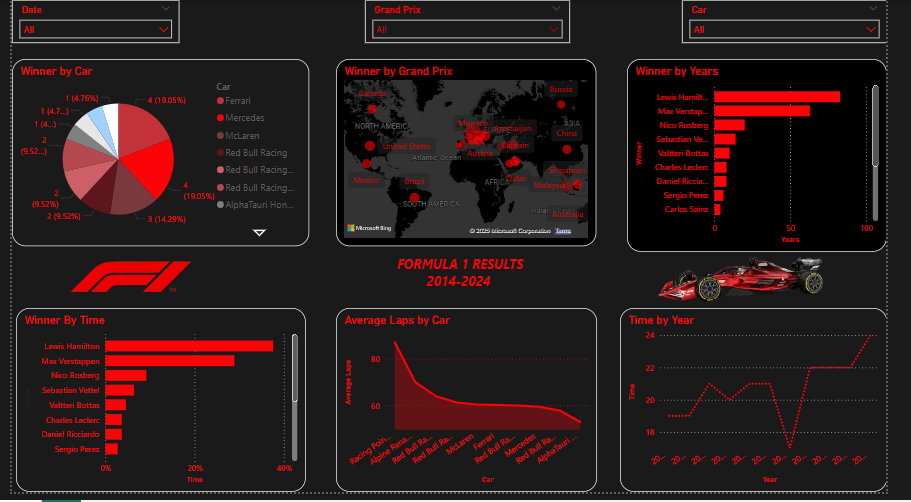

The page's visual inventory and layout, read from the dashboard file:
{"tool":"powerbi","page":{"name":"Page 1","canvas":[1280,720],"ordinal":0},"visuals":[{"type":"pieChart","title":" Winner by Car","fields":{"Category":["cleaned_formula1.Car"],"Y":["cleaned_formula1.Winner"]},"box":[0,86.7,434.9,273.9],"z":0},{"type":"barChart","title":" Winner By Time","fields":{"Category":["cleaned_formula1.Winner"],"Y":["Divide(Count(cleaned_formula1.Time), ScopedEval(Count(cleaned_formula1.Time), []))"]},"box":[5.9,450.7,424.4,269.3],"z":1000},{"type":"barChart","title":"Winner by Years","fields":{"Category":["cleaned_formula1.Winner"],"Y":["cleaned_formula1.Date"]},"box":[900.1,86.7,379.9,282.2],"z":2000},{"type":"lineChart","title":" Time by Year","fields":{"Y":["cleaned_formula1.Time"],"Category":["cleaned_formula1.Date.Variation.Date Hierarchy.Year","cleaned_formula1.Date.Variation.Date Hierarchy.Quarter","cleaned_formula1.Date.Variation.Date Hierarchy.Month","cleaned_formula1.Date.Variation.Date Hierarchy.Day"]},"box":[889.8,450.7,390.7,269.3],"z":3000},{"type":"areaChart","fields":{"Category":["cleaned_formula1.Car"],"Y":["cleaned_formula1.Laps"]},"box":[474.1,450.7,382,269.3],"z":4000},{"type":"map","title":" Winner by Grand Prix","fields":{"Category":["cleaned_formula1.Grand Prix"],"Size":["cleaned_formula1.Winner"]},"box":[474.8,86.7,381.2,273.9],"z":5000},{"type":"slicer","fields":{"Values":["cleaned_formula1.Date.Variation.Date Hierarchy.Year","cleaned_formula1.Date.Variation.Date Hierarchy.Quarter","cleaned_formula1.Date.Variation.Date Hierarchy.Month","cleaned_formula1.Date.Variation.Date Hierarchy.Day"]},"box":[0,0,245,63.3],"z":6000},{"type":"slicer","fields":{"Values":["cleaned_formula1.Grand Prix"]},"box":[516.1,0,300,63.3],"z":6001},{"type":"slicer","fields":{"Values":["cleaned_formula1.Car"]},"box":[980,0,300,63.3],"z":6002},{"type":"image","box":[0,348.3,348.3,112.7],"z":6003},{"type":"image","box":[919,254.6,300,300],"z":6004},{"type":"textbox","box":[503.4,368.8,300,70.2],"z":6005}]}

Visuals, with their boxes in screenshot pixels (x1, y1, x2, y2), scaled from the page's 1280x720 canvas onto the 911x502 screenshot:
" Winner by Car" pieChart: bbox(0, 60, 310, 251)
" Winner By Time" barChart: bbox(4, 314, 306, 501)
"Winner by Years" barChart: bbox(641, 60, 910, 257)
" Time by Year" lineChart: bbox(633, 314, 910, 501)
areaChart - cleaned_formula1.Car x cleaned_formula1.Laps: bbox(337, 314, 609, 501)
" Winner by Grand Prix" map: bbox(338, 60, 609, 251)
slicer - cleaned_formula1.Date.Variation.Date Hierarchy.Year x cleaned_formula1.Date.Variation.Date Hierarchy.Quarter: bbox(0, 0, 174, 44)
slicer - cleaned_formula1.Grand Prix: bbox(367, 0, 581, 44)
slicer - cleaned_formula1.Car: bbox(697, 0, 910, 44)
image: bbox(0, 243, 248, 321)
image: bbox(654, 178, 868, 387)
textbox: bbox(358, 257, 572, 306)
